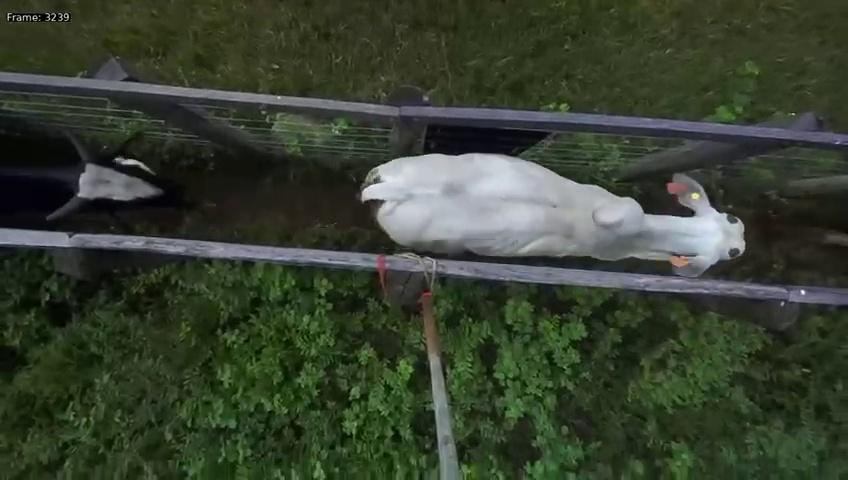cattle: (356, 151, 747, 279)
